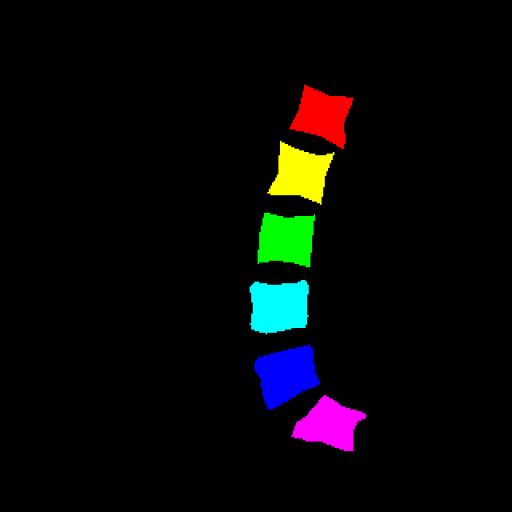L1: (290, 85, 353, 148)
L2: (268, 141, 334, 204)
L3: (258, 213, 315, 266)
L4: (250, 280, 309, 335)
L5: (256, 345, 319, 412)
S1: (294, 395, 366, 450)
